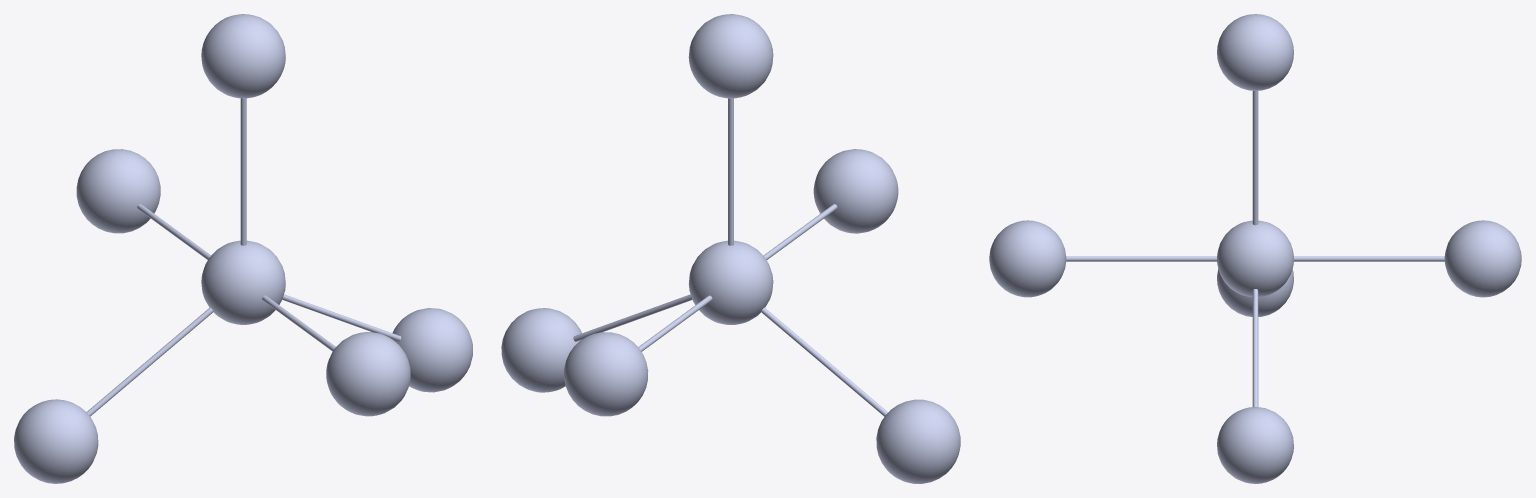
File: TrigonalByprymidal.obj
The picture shows the model from 3 angles, left to right: view 1: azimuth 30°, elevation 25°; view 2: azimuth 150°, elevation 25°; view 3: azimuth 270°, elevation 25°; orthographic projection. The views are drawn at different scales.
Visible parts, largest first — view 1: DirectConnectNode_74_DC_Shell, DirectConnectNode_60_DC_Shell, DirectConnectNode_46_DC_Shell, DirectConnectNode_40_DC_Shell, DirectConnectNode_19_DC_Shell, DirectConnectNode_34_DC_Shell, DirectConnectNode_3_DC_Shell, DirectConnectNode_27_DC_Shell, DirectConnectNode_67_DC_Shell, DirectConnectNode_53_DC_Shell, DirectConnectNode_11_DC_Shell; view 2: DirectConnectNode_60_DC_Shell, DirectConnectNode_46_DC_Shell, DirectConnectNode_40_DC_Shell, DirectConnectNode_74_DC_Shell, DirectConnectNode_19_DC_Shell, DirectConnectNode_34_DC_Shell, DirectConnectNode_3_DC_Shell, DirectConnectNode_27_DC_Shell, DirectConnectNode_67_DC_Shell, DirectConnectNode_53_DC_Shell, DirectConnectNode_11_DC_Shell; view 3: DirectConnectNode_74_DC_Shell, DirectConnectNode_40_DC_Shell, DirectConnectNode_34_DC_Shell, DirectConnectNode_46_DC_Shell, DirectConnectNode_19_DC_Shell, DirectConnectNode_60_DC_Shell, DirectConnectNode_27_DC_Shell, DirectConnectNode_11_DC_Shell, DirectConnectNode_53_DC_Shell, DirectConnectNode_67_DC_Shell.
Boxes of the visible parts, <box> form: DirectConnectNode_74_DC_Shell: <box>326,332,410,416</box>; DirectConnectNode_60_DC_Shell: <box>14,399,98,483</box>; DirectConnectNode_46_DC_Shell: <box>201,14,285,98</box>; DirectConnectNode_40_DC_Shell: <box>76,149,160,233</box>; DirectConnectNode_19_DC_Shell: <box>201,240,285,324</box>; DirectConnectNode_34_DC_Shell: <box>392,308,472,392</box>; DirectConnectNode_3_DC_Shell: <box>86,307,213,416</box>; DirectConnectNode_27_DC_Shell: <box>240,98,246,245</box>; DirectConnectNode_67_DC_Shell: <box>282,294,401,341</box>; DirectConnectNode_53_DC_Shell: <box>137,204,211,259</box>; DirectConnectNode_11_DC_Shell: <box>262,295,335,351</box>; DirectConnectNode_60_DC_Shell: <box>876,399,960,483</box>; DirectConnectNode_46_DC_Shell: <box>688,14,773,98</box>; DirectConnectNode_40_DC_Shell: <box>564,332,648,416</box>; DirectConnectNode_74_DC_Shell: <box>813,149,898,233</box>; DirectConnectNode_19_DC_Shell: <box>688,240,773,324</box>; DirectConnectNode_34_DC_Shell: <box>501,308,581,392</box>; DirectConnectNode_3_DC_Shell: <box>761,307,887,416</box>; DirectConnectNode_27_DC_Shell: <box>728,98,733,245</box>; DirectConnectNode_67_DC_Shell: <box>573,294,692,341</box>; DirectConnectNode_53_DC_Shell: <box>638,295,712,351</box>; DirectConnectNode_11_DC_Shell: <box>763,204,837,259</box>; DirectConnectNode_74_DC_Shell: <box>989,220,1066,297</box>; DirectConnectNode_40_DC_Shell: <box>1444,220,1521,297</box>; DirectConnectNode_34_DC_Shell: <box>1217,407,1293,483</box>; DirectConnectNode_46_DC_Shell: <box>1217,14,1293,90</box>; DirectConnectNode_19_DC_Shell: <box>1217,220,1293,297</box>; DirectConnectNode_60_DC_Shell: <box>1217,269,1293,316</box>; DirectConnectNode_27_DC_Shell: <box>1252,91,1258,225</box>; DirectConnectNode_11_DC_Shell: <box>1066,256,1216,261</box>; DirectConnectNode_53_DC_Shell: <box>1294,256,1444,261</box>; DirectConnectNode_67_DC_Shell: <box>1252,289,1258,406</box>.
Size of the model in its own units: 12.21 by 10.85 by 13.8.
